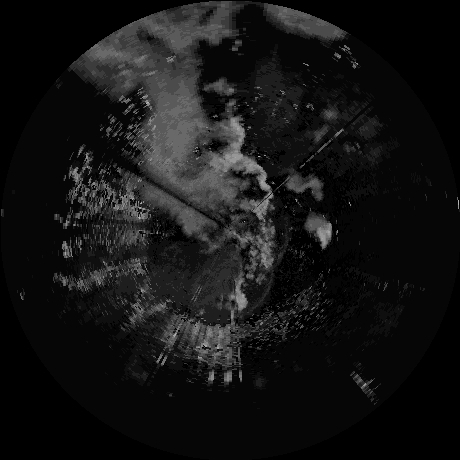frontgust: (235, 276, 273, 316), (274, 227, 289, 268)
